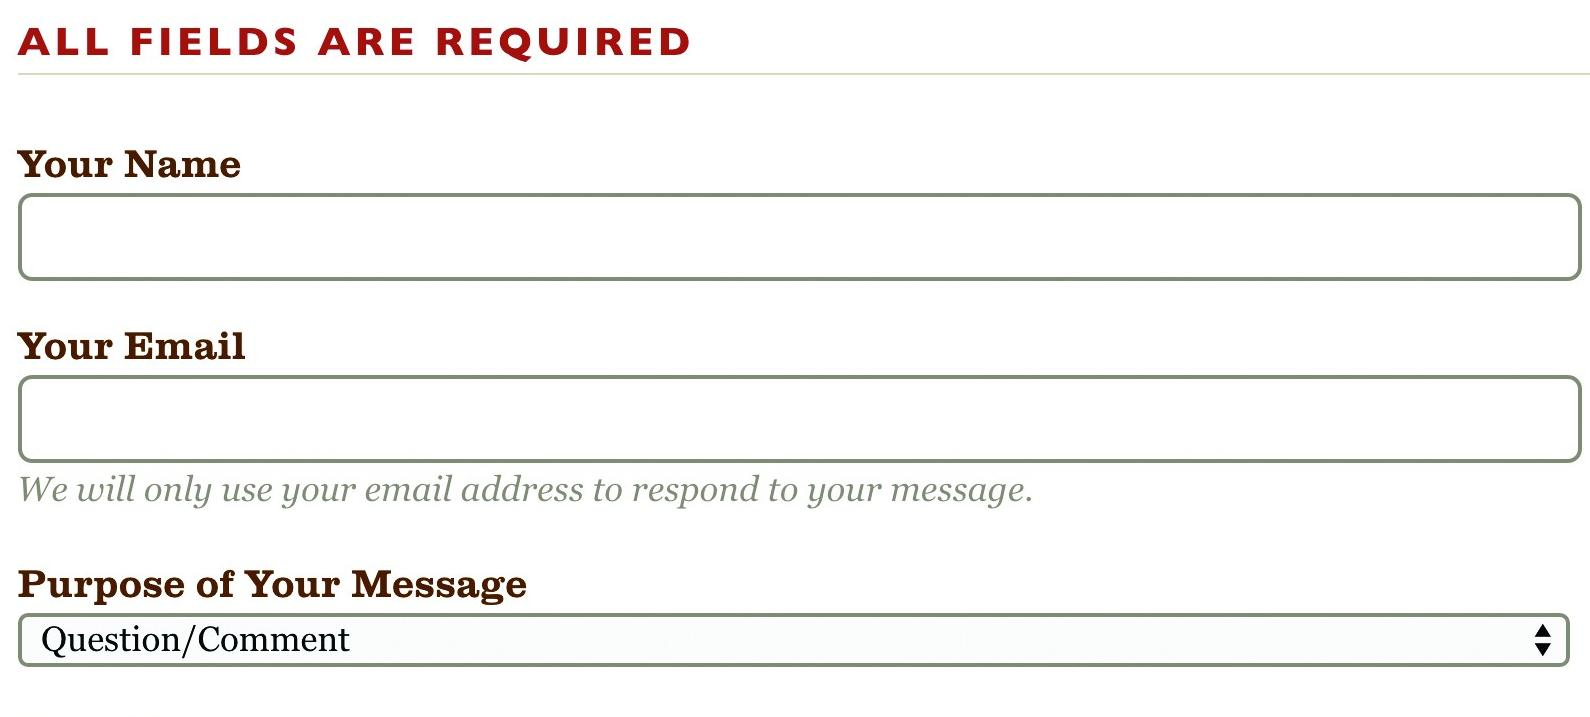field: (16, 189, 1583, 282), (16, 372, 1581, 462), (18, 610, 1573, 669)
field_with_label: (5, 140, 1588, 288), (6, 324, 1586, 469), (9, 564, 1582, 677)
